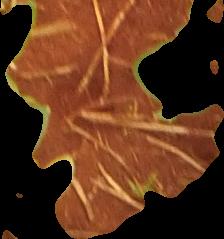soil: (1, 1, 224, 237)
